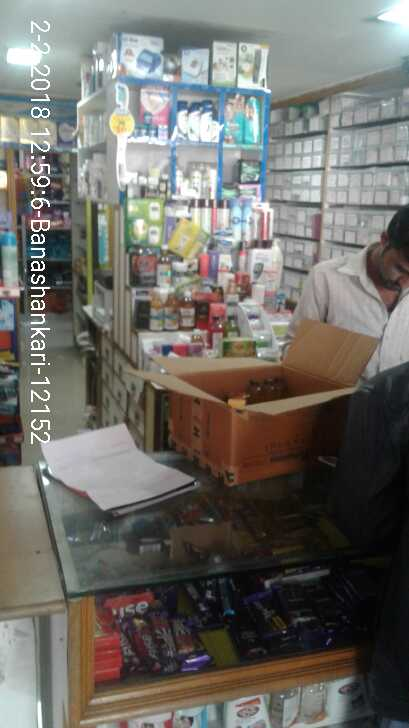pharmacy: (242, 96, 263, 145), (226, 90, 242, 146), (238, 157, 263, 182), (144, 110, 152, 126)
